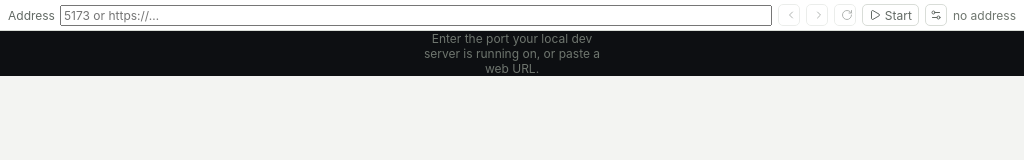
Test case: PreviewNodeFace › address classification › rejects insecure HTTP websites outside loopback
In the field named "Preview address": (416, 15) [60,4,772,26], type "http://example.com/"
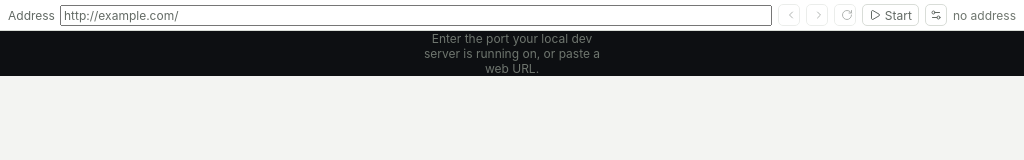
Leave the field named "Preview address", box [60,4,772,26]
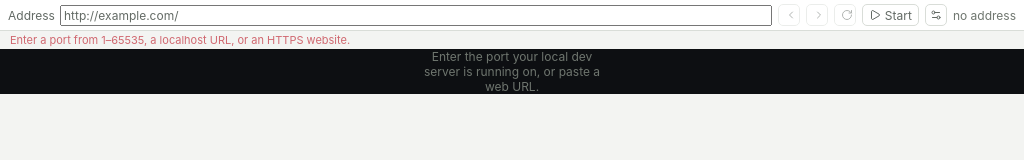
Check: the message "Enter a port from 1–65535, a localhost URL, or an HTTPS website." is shown, box [10,33,350,47]
